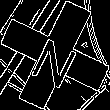N_NE: (26, 23, 84, 87)
